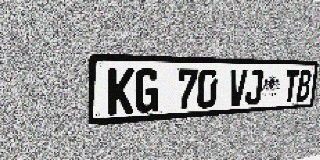0: (196, 69, 218, 109)
7: (175, 69, 198, 110)
B: (296, 70, 312, 102)
G: (134, 68, 160, 113)
J: (244, 69, 263, 105)
K: (108, 68, 135, 115)
T: (283, 70, 300, 103)
V: (228, 69, 247, 107)
